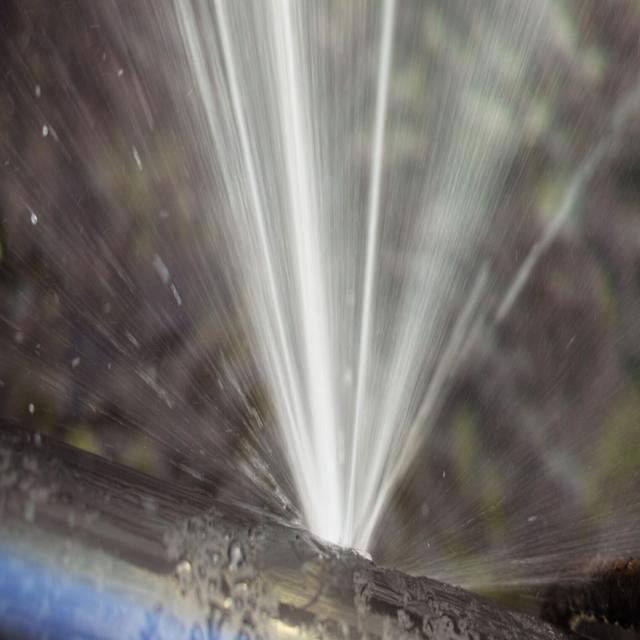leak: (0, 2, 640, 593)
